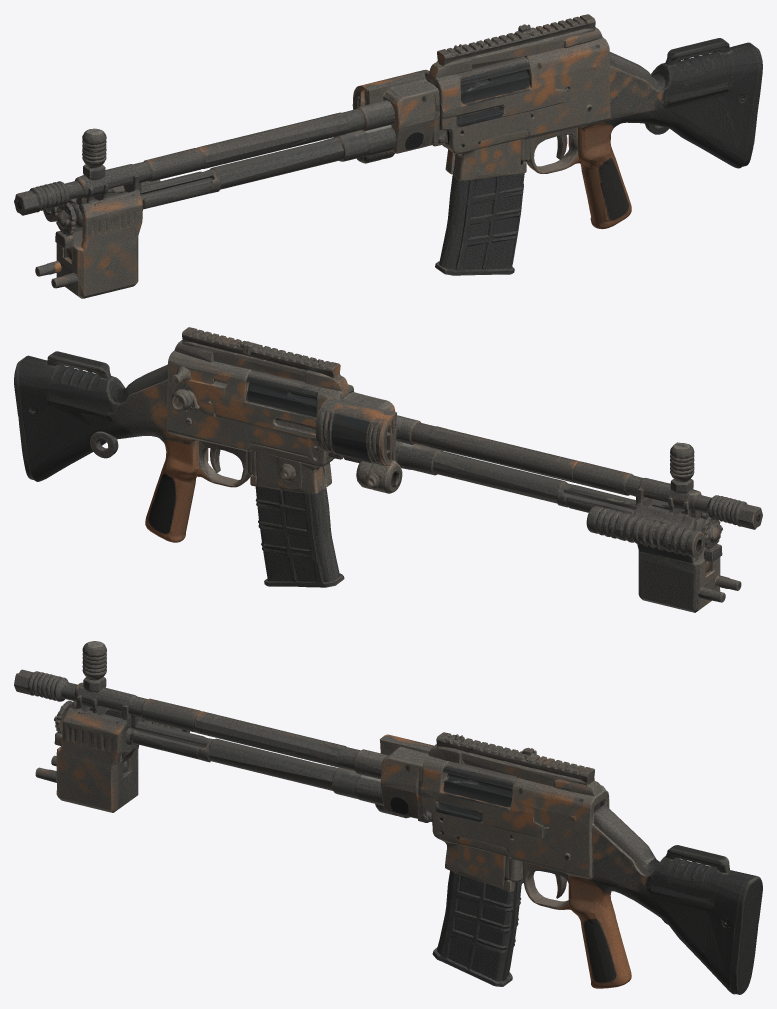
Rendered from FieldRifle.glb.
3 renders of one model, top to bottom at view 1: azimuth 30°, elevation 25°; view 2: azimuth 150°, elevation 25°; view 3: azimuth 330°, elevation 25°, orthographic.
Bounding box in the file's own units: 1.9 × 0.5885 × 0.1567.
1 material, 1 textured.
